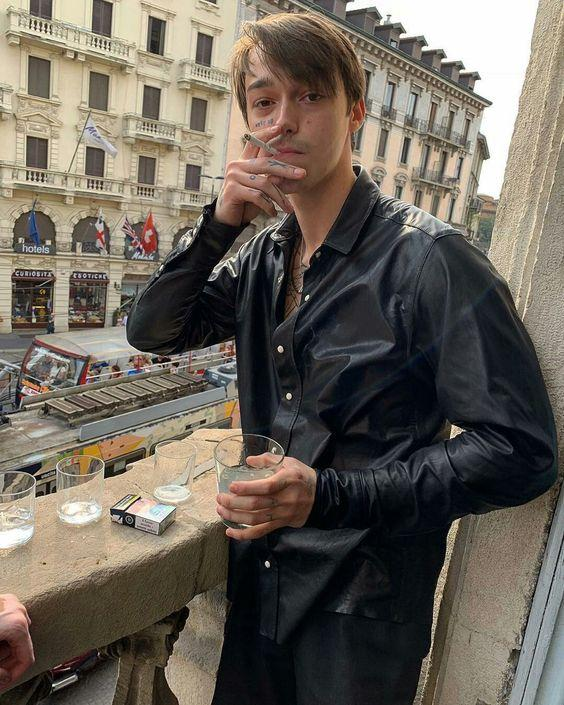cigarette: (242, 134, 281, 155)
